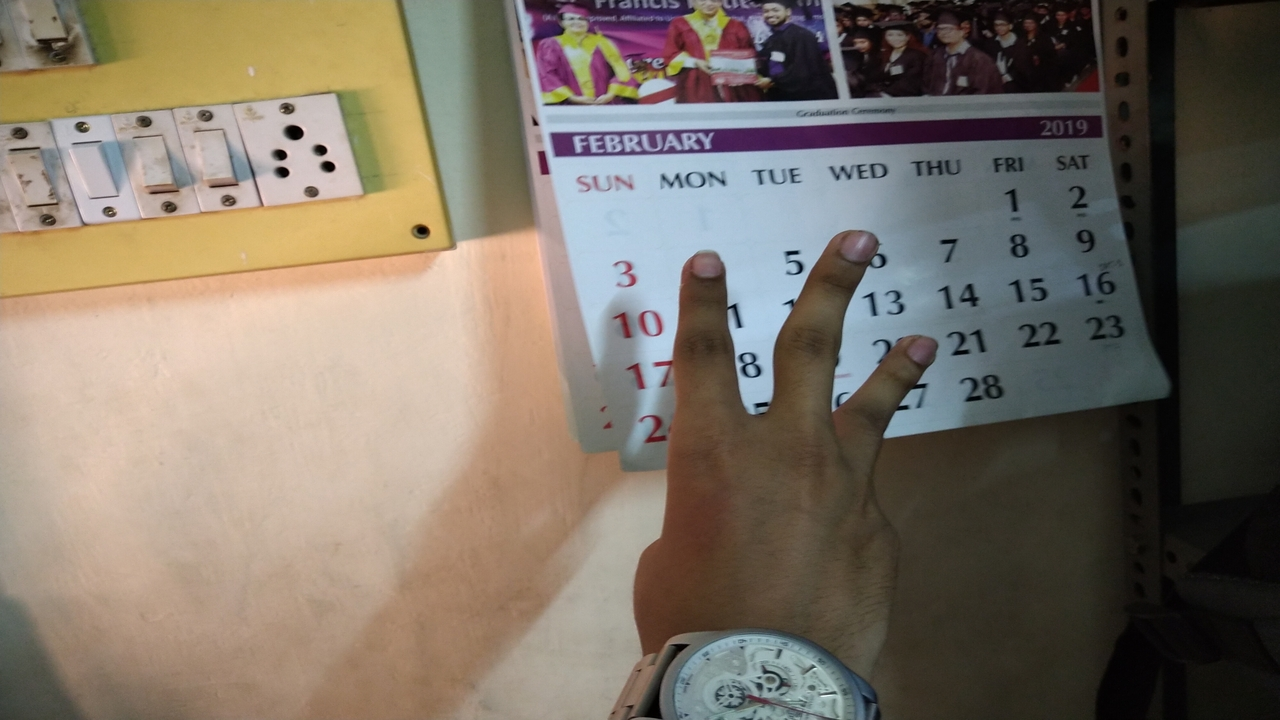fingertip: (824, 220, 888, 280), (678, 250, 734, 292), (894, 325, 943, 372)
